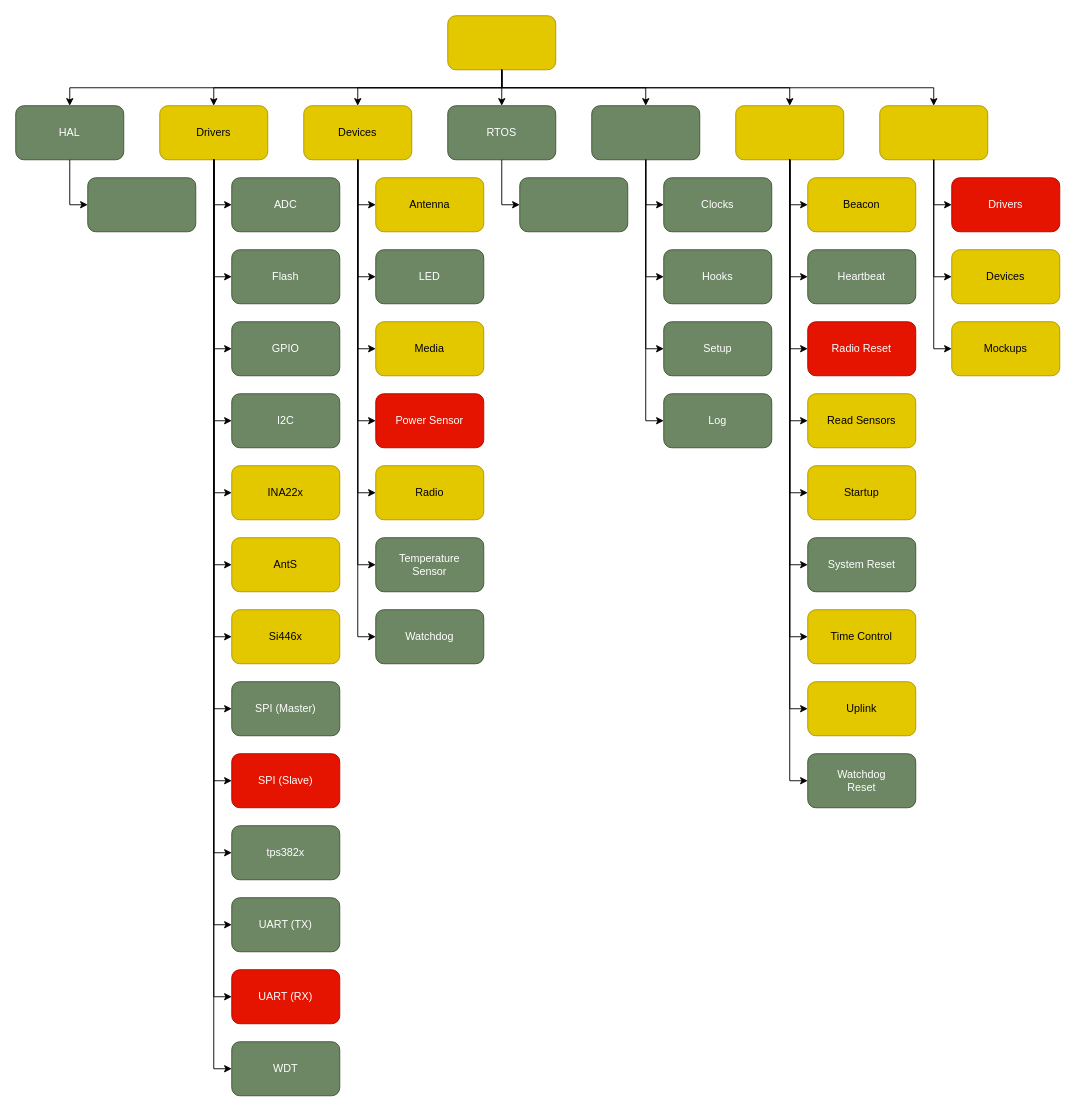
The diagram is 1076 pixels wide and 1112 high, and some of its shapes have lost their labels. Here are the shapes that lost their labels. From the top down, the box of each, then its label:
(447, 15, 556, 70): TTC 2.0 Firmware
(591, 105, 700, 160): System
(735, 105, 844, 160): Tasks
(879, 105, 988, 160): Tests
(87, 177, 196, 232): DriverLib
(519, 177, 628, 232): FreeRTOS
